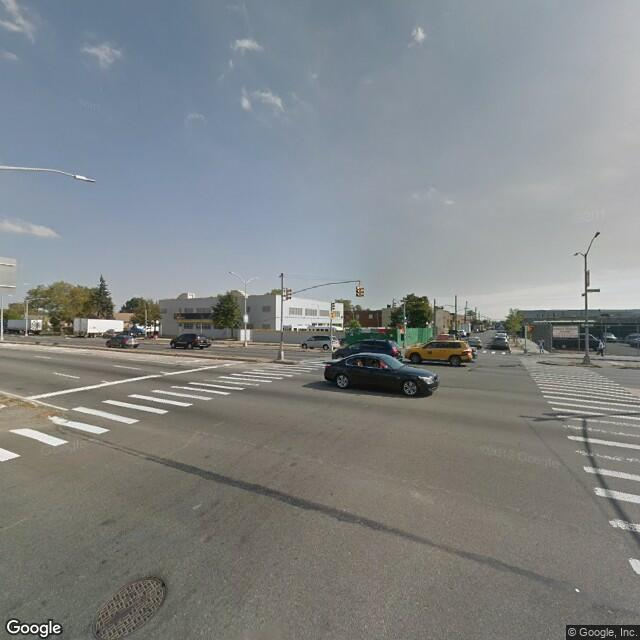litter: (573, 586, 580, 595)
